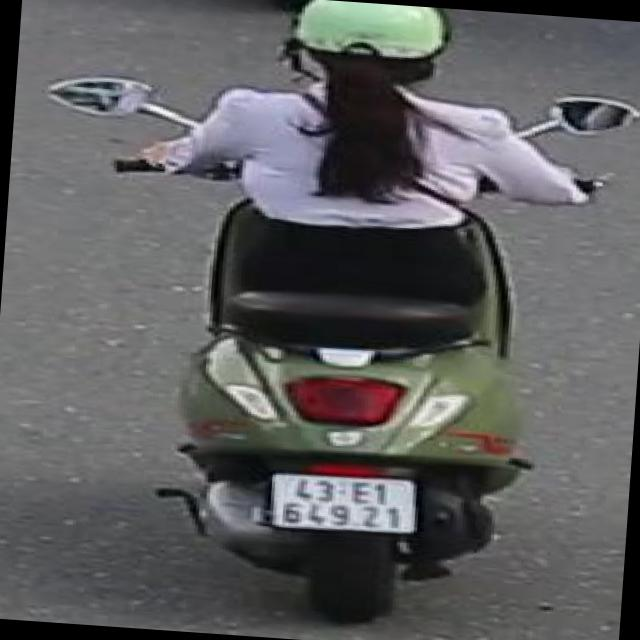LP: (268, 466, 424, 539)
